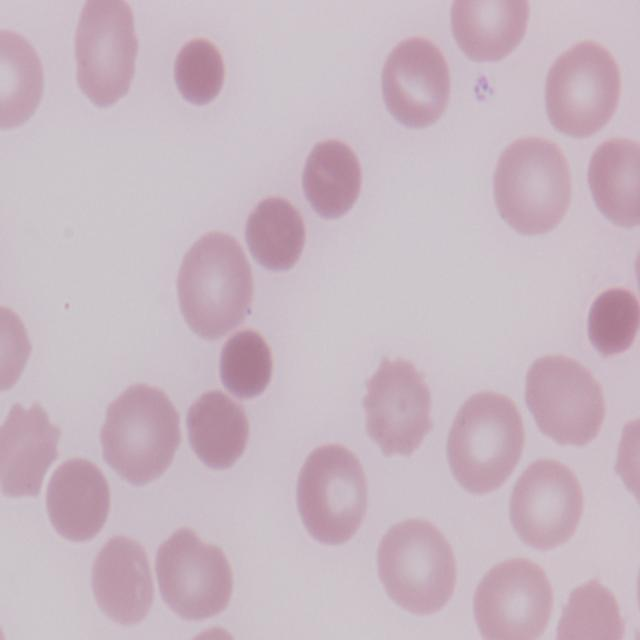RBC: (441, 386, 528, 496), (493, 131, 578, 239), (101, 382, 185, 490), (520, 350, 606, 454), (174, 231, 255, 341), (372, 519, 458, 622), (294, 441, 374, 548), (504, 454, 584, 558), (70, 0, 141, 112), (362, 358, 437, 464), (546, 36, 622, 140), (154, 530, 235, 626), (374, 36, 452, 132), (470, 556, 556, 640), (88, 534, 158, 630), (448, 0, 532, 66), (583, 136, 640, 232), (0, 27, 47, 135), (553, 576, 631, 640), (0, 302, 34, 400), (614, 412, 640, 518), (631, 521, 640, 640)
Spherocyte: (42, 456, 113, 547), (182, 388, 252, 471), (300, 137, 366, 223), (243, 192, 304, 279), (218, 326, 276, 404), (174, 34, 226, 112), (587, 284, 640, 360)
